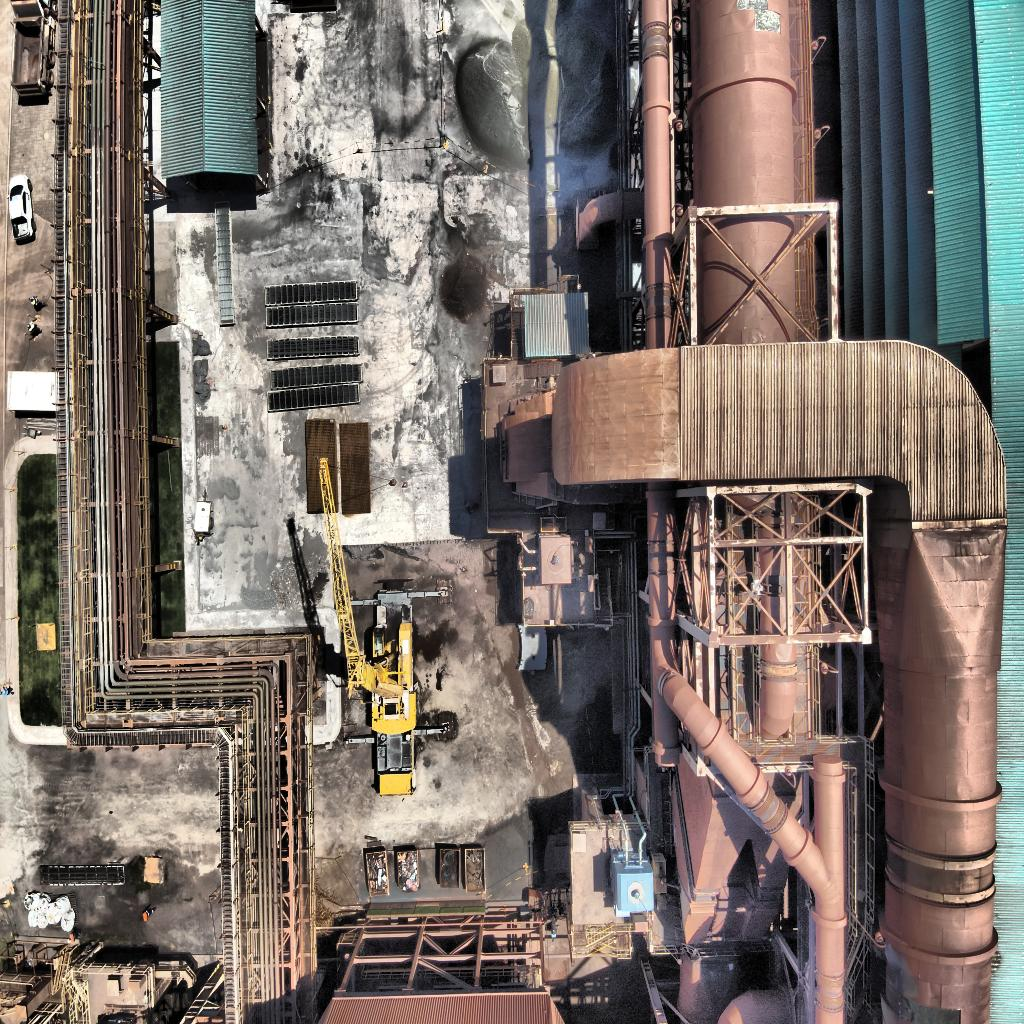Failures: (874, 977, 928, 1008), (866, 1007, 964, 1024), (736, 0, 782, 35)
